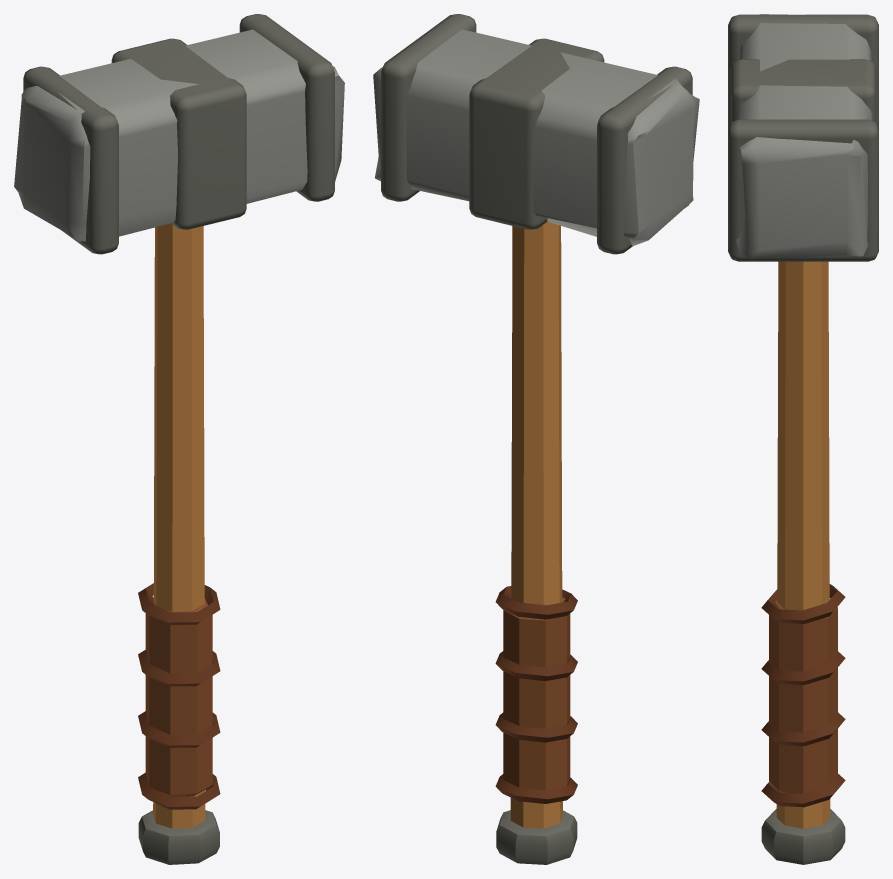
Rendered from StoneHammer.fbx.
3 renders of one model, left to right at view 1: azimuth 30°, elevation 25°; view 2: azimuth 150°, elevation 25°; view 3: azimuth 270°, elevation 25°, orthographic.
Visible parts, largest first — view 1: StoneHammer; view 2: StoneHammer; view 3: StoneHammer.
Part boxes in pixels (left/top/right/bottom): StoneHammer: left=14, top=14, right=344, bottom=864; StoneHammer: left=373, top=14, right=699, bottom=864; StoneHammer: left=728, top=14, right=878, bottom=864.
Size of the model in its own units: 1.17 by 3.2 by 0.56.
1 material, 1 textured.
